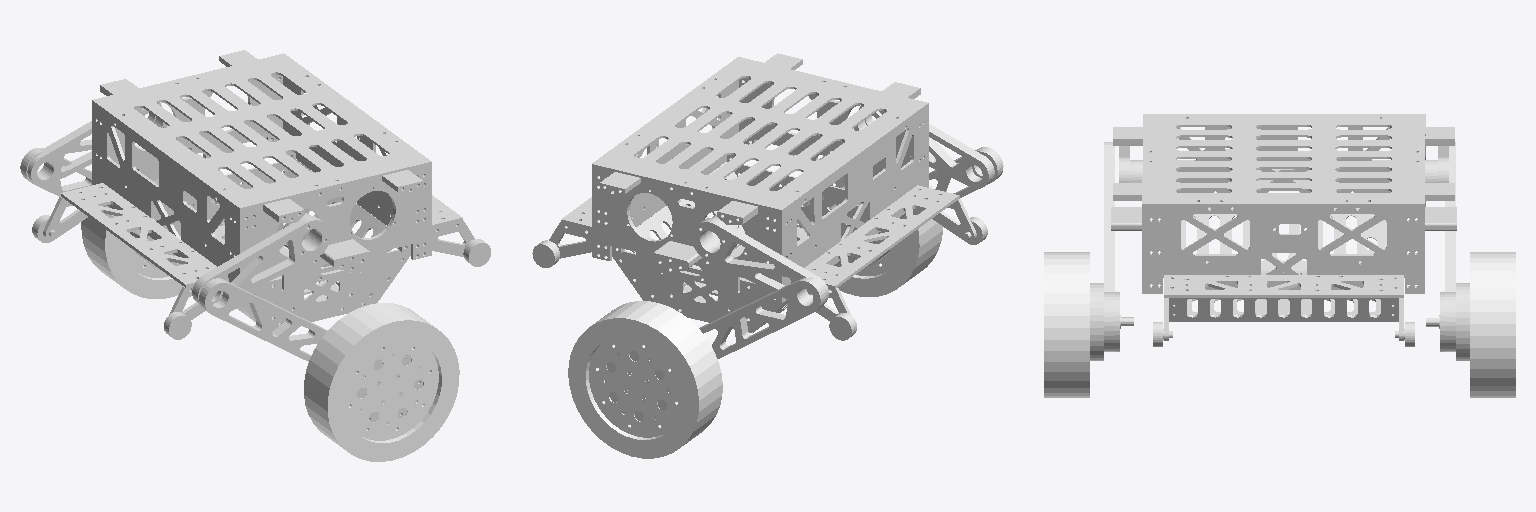
robot.urdf — balio:
<?xml version="1.0" encoding="utf-8"?>
<!-- This URDF was automatically created by SolidWorks to URDF Exporter! Originally created by Stephen Brawner (brawner@gmail.com)
    Commit Version: 1.6.0-4-g7f85cfe  Build Version: 1.6.7995.38578
    For more information, please see http://wiki.ros.org/sw_urdf_exporter -->
<robot name="balio">

    <!-- 固定机器人在空中 -->
    <!-- <link name="world" />

    <joint name="base_to_world" type="fixed">
        <parent link="world"/>
        <child link="base_link"/>
        <origin xyz="0 0 0.2" rpy="0 0 0"/>
    </joint> -->
    <!--Base Link-->
    <link name="base_link">
        <inertial>
            <origin xyz="0.000342 -0.028601 0.004077" rpy="-1.57 0 1.57" />
            <mass value="3.576" />
            <inertia ixx="0.015958" ixy="1.03145E-04" ixz="1.8632E-05" iyy="0.03333" iyz="-3.64017E-04" izz="0.028098" />
        </inertial>
        <visual>
            <origin xyz="0 0 0" rpy="-1.57 0 1.57" />
            <geometry>
                <mesh filename="../meshes/base_link.STL" />
            </geometry>
            <material name="">
                <color rgba="0.929411764705882 0.929411764705882 0.929411764705882 1" />
            </material>
        </visual>
        <collision>
            <origin xyz="0 0 0" rpy="-1.57 0 1.57" />
            <geometry>
                <mesh filename="../meshes/base_link.STL" />
            </geometry>
        </collision>
    </link>

    <link name="rf0_Link">
        <inertial>
            <origin xyz="0.0382232548487438 6.66587390724949E-05 0.00680987704079777" rpy="0 0 0" />
            <mass value="0.0568860756339677" />
            <inertia ixx="7.837E-06" ixy="-7.2E-07" ixz="-3.935E-06" iyy="8.7659E-05" iyz="-7.0E-09" izz="9.2586E-05" />
        </inertial>
        <visual>
            <origin xyz="0 0 0" rpy="0 0 0" />
            <geometry>
                <mesh filename="../meshes/leg2_up.STL" />
            </geometry>
            <material name="">
                <color rgba="0.929411764705882 0.929411764705882 0.929411764705882 1" />
            </material>
        </visual>
        <collision>
            <origin xyz="0 0 0" rpy="0 0 0" />
            <geometry>
                <mesh filename="../meshes/leg2_up.STL" />
            </geometry>
        </collision>
    </link>

    <joint name="rf0_Joint" type="revolute">
        <origin xyz="-0.035 -0.145 0.05" rpy="-1.5708 2.87 0" />
        <!-- <origin xyz="0.0 -0.145 0.05" rpy="-1.5708 2.87 0" /> -->
        <parent link="base_link" />
        <child link="rf0_Link" />
        <axis xyz="0 0 1" />
        <limit lower="-1.0" upper="0.34" effort="7" velocity="12" />
    </joint>

    <link name="rf1_Link">
        <inertial>
            <origin xyz="0.156099 2.6E-05 0.028235" rpy="0 0 0" />
            <mass value="0.644" />
            <inertia ixx="3.48408E-04" ixy="-1.421E-06" ixz="1.33129E-04" iyy="9.93260E-04" iyz="-3.96E-07" izz="9.96835E-04" />
        </inertial>
        <visual>
            <origin xyz="0 0 0" rpy="0 0 0" />
            <geometry>
                <mesh filename="../meshes/leg2_down.STL" />
            </geometry>
            <material name="">
                <color rgba="0.929411764705882 0.929411764705882 0.929411764705882 1" />
            </material>
        </visual>
        <collision>
            <origin xyz="0 0 0" rpy="0 0 0" />
            <geometry>
                <mesh filename="../meshes/leg2_down.STL" />
            </geometry>
        </collision>
    </link>

    <joint name="rf1_Joint" type="revolute">
        <origin xyz="0.1 0.00 -0.0032" rpy="3.1416 0 -2.26" />
        <parent link="rf0_Link" />
        <child link="rf1_Link" />
        <axis xyz="0 0 -1" />
        <limit lower="-0.26" upper="1.6" effort="7" velocity="12" />
    </joint>

    <link name="r_wheel_Link">
        <inertial>
            <origin xyz="0 0 0.012475" rpy="0 0 0" />
            <mass value="0.362" />
            <inertia ixx="5.16005E-04" ixy="0" ixz="0" iyy="5.16005E-04" iyz="0" izz="9.43435E-04" />
        </inertial>
        <visual>
            <origin xyz="0 0 0" rpy="0 0 0" />
            <geometry>
                <mesh filename="../meshes/wheel1.STL" />
            </geometry>
            <material name="">
                <color rgba="1 1 1 1" />
            </material>
        </visual>
        <collision>
            <origin xyz="0 0 0" rpy="0 0 0" />
            <geometry>
                <mesh filename="../meshes/wheel1.STL" />
            </geometry>
        </collision>
    </link>

    <joint name="r_wheel_Joint" type="revolute">
        <origin xyz="0.168 0.00 0.03" rpy="0 0 3.14" />
        <parent link="rf1_Link" />
        <child link="r_wheel_Link" />
        <axis xyz="0 0 -1" />
        <limit effort="2" velocity="100" />
    </joint>

    <!-- left -->
    <link name="lf0_Link">
        <inertial>
            <origin xyz="0.0382232548487438 6.66587390724949E-05 0.00680987704079777" rpy="0 0 0" />
            <mass value="0.0568860756339677" />
            <inertia ixx="7.837E-06" ixy="-7.2E-07" ixz="-3.935E-06" iyy="8.7659E-05" iyz="-7.0E-09" izz="9.2586E-05" />
        </inertial>
        <visual>
            <origin xyz="0 0 0" rpy="0 0 0" />
            <geometry>
                <mesh filename="../meshes/leg2_up.STL" />
            </geometry>
            <material name="">
                <color rgba="0.929411764705882 0.929411764705882 0.929411764705882 1" />
            </material>
        </visual>
        <collision>
            <origin xyz="0 0 0" rpy="0 0 0" />
            <geometry>
                <mesh filename="../meshes/leg2_up.STL" />
            </geometry>
        </collision>
    </link>

    <joint name="lf0_Joint" type="revolute">
        <origin xyz="-0.035 0.145 0.05" rpy="1.5708 2.87 0" />
        <!-- <origin xyz="0.0 0.145 0.05" rpy="1.5708 2.87 0" /> -->
        <parent link="base_link" />
        <child link="lf0_Link" />
        <axis xyz="0 0 -1" />
        <limit lower="-1.0" upper="0.34" effort="7" velocity="12" />
    </joint>

    <link name="lf1_Link">
        <inertial>
            <origin xyz="0.156099 2.6E-05 0.028235" rpy="0 0 0" />
            <mass value="0.644" />
            <inertia ixx="3.48408E-04" ixy="-1.421E-06" ixz="1.33129E-04" iyy="9.93260E-04" iyz="-3.96E-07" izz="9.96835E-04" />
        </inertial>
        <visual>
            <origin xyz="0 0 -0.007" rpy="0 0 0" />
            <geometry>
                <mesh filename="../meshes/leg2_down.STL" />
            </geometry>
            <material name="">
                <color rgba="0.929411764705882 0.929411764705882 0.929411764705882 1" />
            </material>
        </visual>
        <collision>
            <origin xyz="0 0 -0.007" rpy="0 0 0" />
            <geometry>
                <mesh filename="../meshes/leg2_down.STL" />
            </geometry>
        </collision>
    </link>

    <joint name="lf1_Joint" type="revolute">
        <origin xyz="0.1 0.0 -0.0032" rpy="3.1416 0 2.26" />
        <parent link="lf0_Link" />
        <child link="lf1_Link" />
        <axis xyz="0 0 1" />
        <limit lower="-0.26" upper="1.6" effort="7" velocity="12" />
    </joint>

    <link name="l_wheel_Link">
        <inertial>
            <origin xyz="0 0 0.012475" rpy="0 0 0" />
            <mass value="0.362" />
            <inertia ixx="5.16005E-04" ixy="0" ixz="0" iyy="5.16005E-04" iyz="0" izz="9.43435E-04" />
        </inertial>
        <visual>
            <origin xyz="0 0 -0.07" rpy="0 0 0" />
            <geometry>
                <mesh filename="../meshes/wheel1.STL" />
            </geometry>
            <material name="">
                <color rgba="1 1 1 1" />
            </material>
        </visual>
        <collision>
            <origin xyz="0 0 -0.07" rpy="0 0 0" />
            <geometry>
                <mesh filename="../meshes/wheel1.STL" />
            </geometry>
        </collision>
    </link>

    <joint name="l_wheel_Joint" type="revolute">
        <origin xyz="0.168 0.00 0.093" rpy="0 0 1.5708" />
        <parent link="lf1_Link" />
        <child link="l_wheel_Link" />
        <axis xyz="0 0 1" />
        <limit effort="2" velocity="100" />
    </joint>

</robot>

--- Facts derived from the render (not from the file) ---
The picture shows the robot from 3 angles, left to right: view 1: azimuth 30°, elevation 25°; view 2: azimuth 150°, elevation 25°; view 3: azimuth 270°, elevation 25°; orthographic projection.
Robot: balio — 7 links, 6 joints (6 revolute); root link base_link; default pose: every joint at zero.
Visible links, largest first — view 1: base_link, r_wheel_Link, rf1_Link, rf0_Link, l_wheel_Link, lf0_Link, lf1_Link; view 2: base_link, l_wheel_Link, lf1_Link, lf0_Link, r_wheel_Link, rf0_Link, rf1_Link; view 3: base_link, r_wheel_Link, l_wheel_Link, rf1_Link, lf1_Link, lf0_Link, rf0_Link.
Boxes of the visible links, left/top/right/bottom form: base_link: left=32, top=50, right=490, bottom=339; r_wheel_Link: left=304, top=303, right=459, bottom=461; rf1_Link: left=199, top=278, right=422, bottom=423; rf0_Link: left=192, top=213, right=330, bottom=304; l_wheel_Link: left=81, top=145, right=224, bottom=298; lf0_Link: left=27, top=103, right=167, bottom=186; lf1_Link: left=20, top=148, right=192, bottom=268; base_link: left=532, top=53, right=987, bottom=340; l_wheel_Link: left=568, top=301, right=722, bottom=458; lf1_Link: left=605, top=277, right=826, bottom=420; lf0_Link: left=692, top=215, right=828, bottom=302; r_wheel_Link: left=797, top=156, right=942, bottom=296; rf0_Link: left=854, top=105, right=994, bottom=188; rf1_Link: left=822, top=147, right=1003, bottom=267; base_link: left=1111, top=114, right=1456, bottom=346; r_wheel_Link: left=1044, top=252, right=1089, bottom=397; l_wheel_Link: left=1470, top=252, right=1515, bottom=397; rf1_Link: left=1090, top=142, right=1133, bottom=360; lf1_Link: left=1426, top=142, right=1469, bottom=360; lf0_Link: left=1425, top=146, right=1448, bottom=182; rf0_Link: left=1119, top=146, right=1142, bottom=182.
Size in the robot's own frame: 0.3122 by 0.4129 by 0.2216 metres.
Meshes: 4 distinct files referenced, 7 mesh visuals loaded (4 binary STL).
